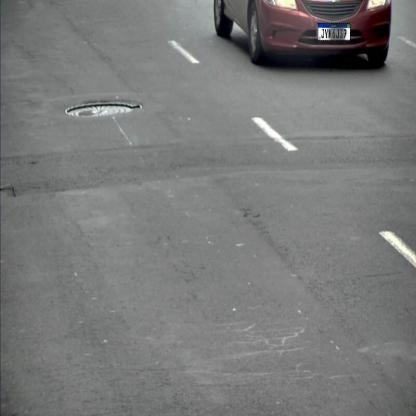PlacaM: (318, 23, 350, 41)
